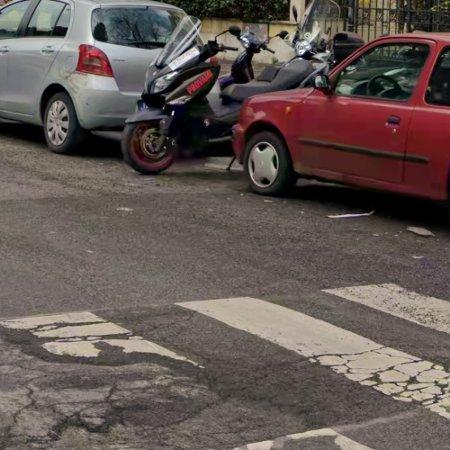crosswalks: (4, 281, 450, 450)
